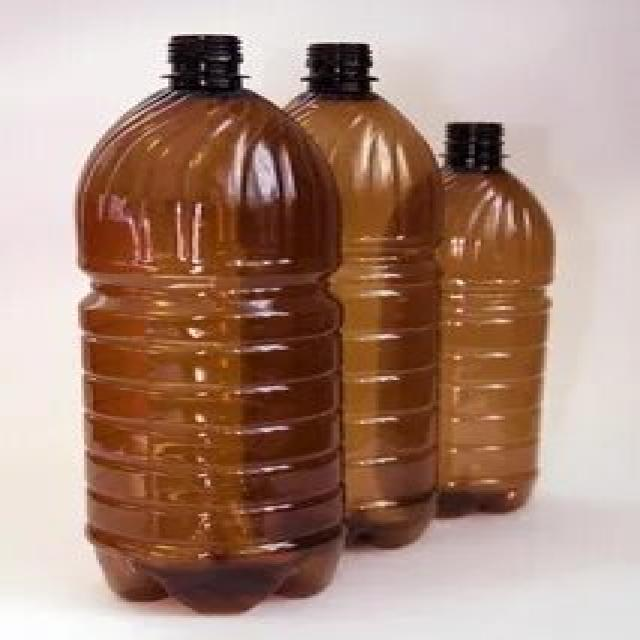brown: (75, 32, 343, 615), (283, 45, 443, 550), (431, 125, 556, 518)
